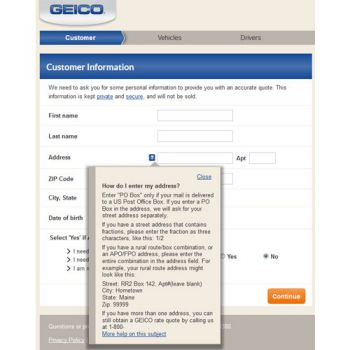Geico: (46, 2, 107, 18)
